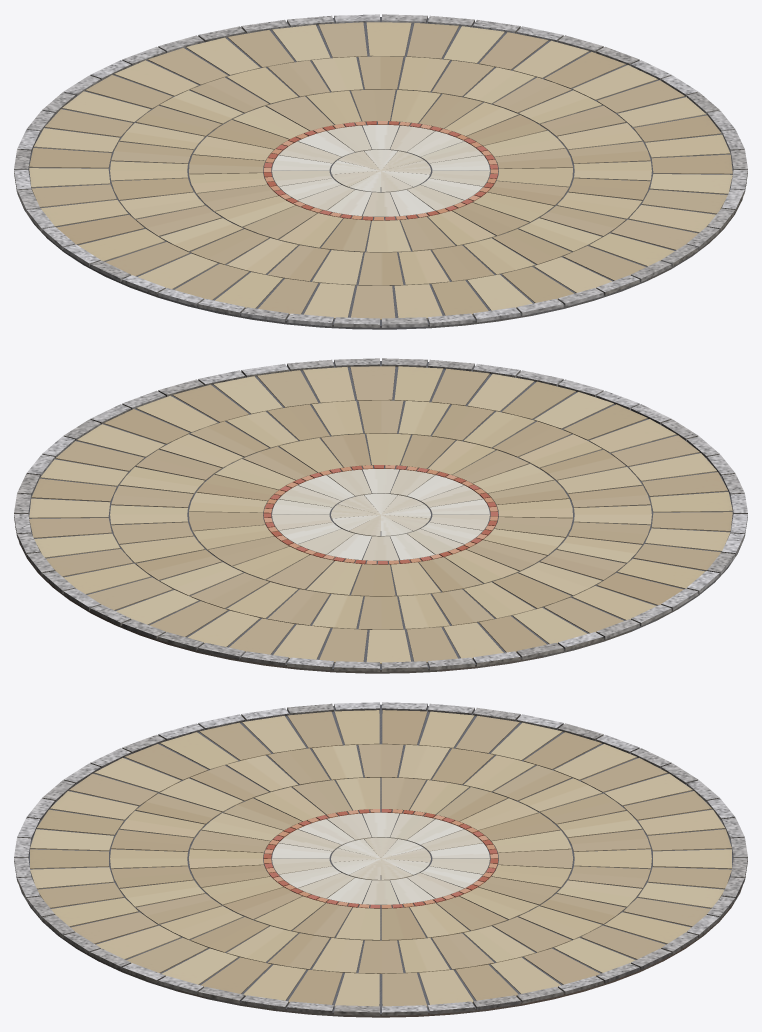
The model's file is hub_floor.fbx.
The picture shows the model from 3 angles, top to bottom: view 1: azimuth 30°, elevation 25°; view 2: azimuth 150°, elevation 25°; view 3: azimuth 270°, elevation 25°; orthographic projection.
Parts seen in each view (by area): view 1: hub_floor_body; view 2: hub_floor_body; view 3: hub_floor_body.
Boxes of the visible parts, box(x1,y1,x2,y2) form: hub_floor_body: box(14, 14, 747, 329); hub_floor_body: box(14, 358, 747, 673); hub_floor_body: box(14, 702, 747, 1017).
Size of the model in its own units: 9700 by 80 by 9700.
1 material, 1 textured.
